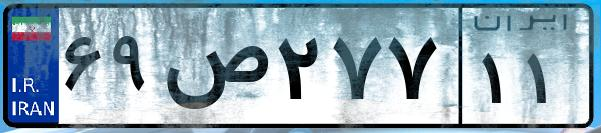1: (475, 38, 525, 113), (525, 38, 570, 115)
2: (270, 28, 330, 110)
6: (57, 26, 110, 100)
7: (385, 28, 445, 110), (330, 28, 385, 110)
9: (110, 28, 158, 98)
ص: (158, 20, 270, 120)
